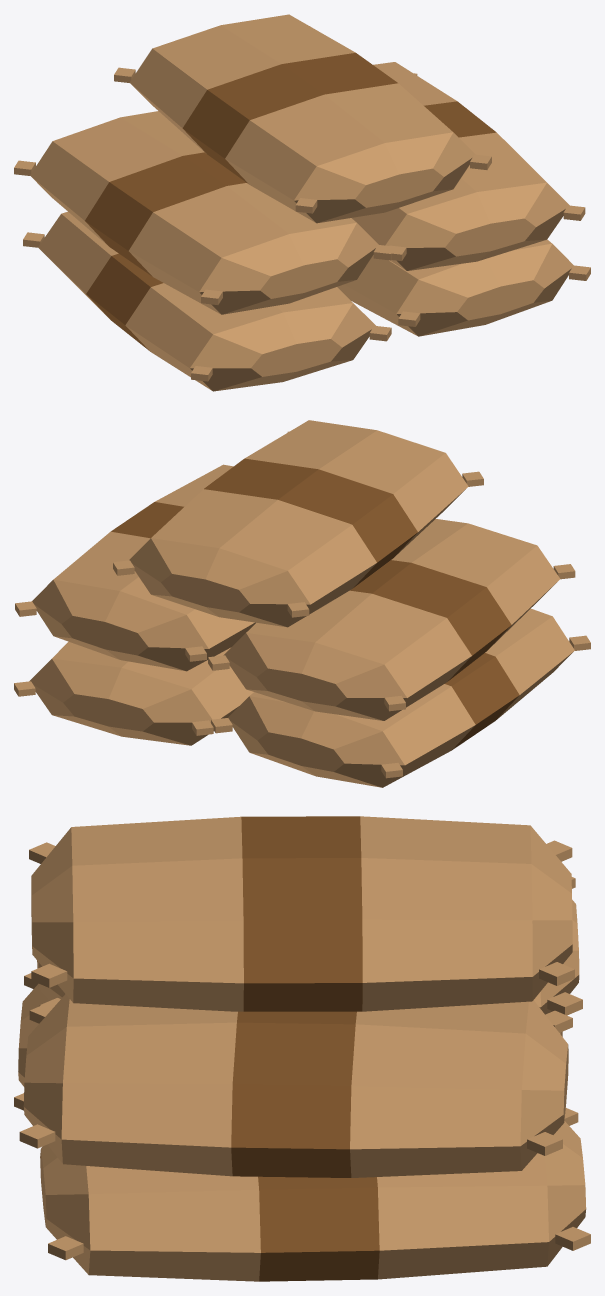
Rendered from sacks.fbx.
3 views of the same model, one above another, from view 1: azimuth 30°, elevation 25°; view 2: azimuth 150°, elevation 25°; view 3: azimuth 270°, elevation 25° (orthographic). The views are drawn at different scales.
Parts seen in each view (by area): view 1: Sacks_Pallet_Generator; view 2: Sacks_Pallet_Generator; view 3: Sacks_Pallet_Generator.
Part boxes in pixels (box(x1,y1,x2,y2)): Sacks_Pallet_Generator: box(14, 14, 590, 391); Sacks_Pallet_Generator: box(14, 420, 590, 787); Sacks_Pallet_Generator: box(14, 816, 590, 1281).
Size of the model in its own units: 119 by 61.16 by 103.
